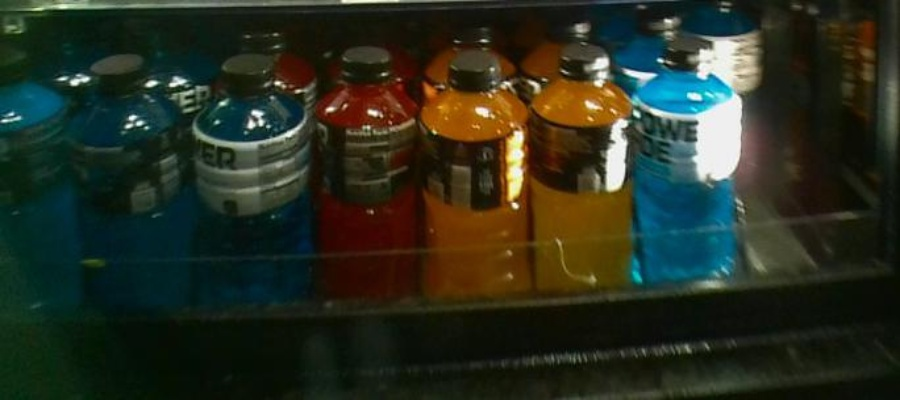bottle: (639, 22, 746, 335), (195, 52, 311, 337), (67, 53, 183, 335), (318, 48, 424, 335), (428, 41, 530, 337), (537, 38, 630, 343)
